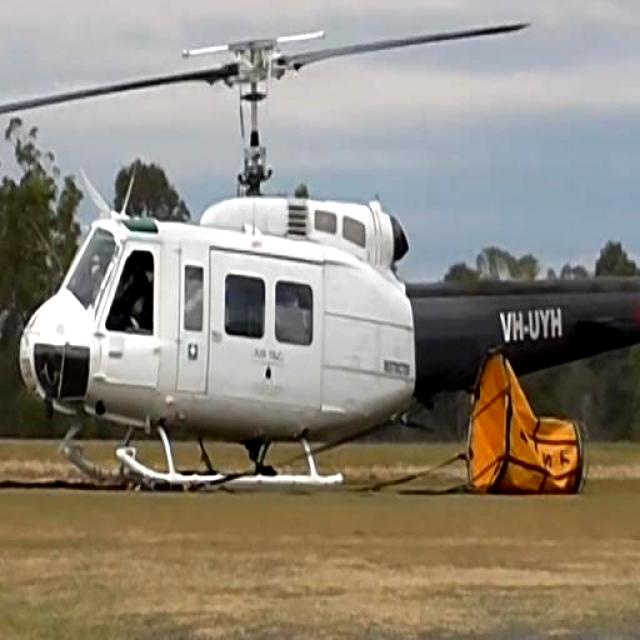drone: (0, 1, 640, 494)
